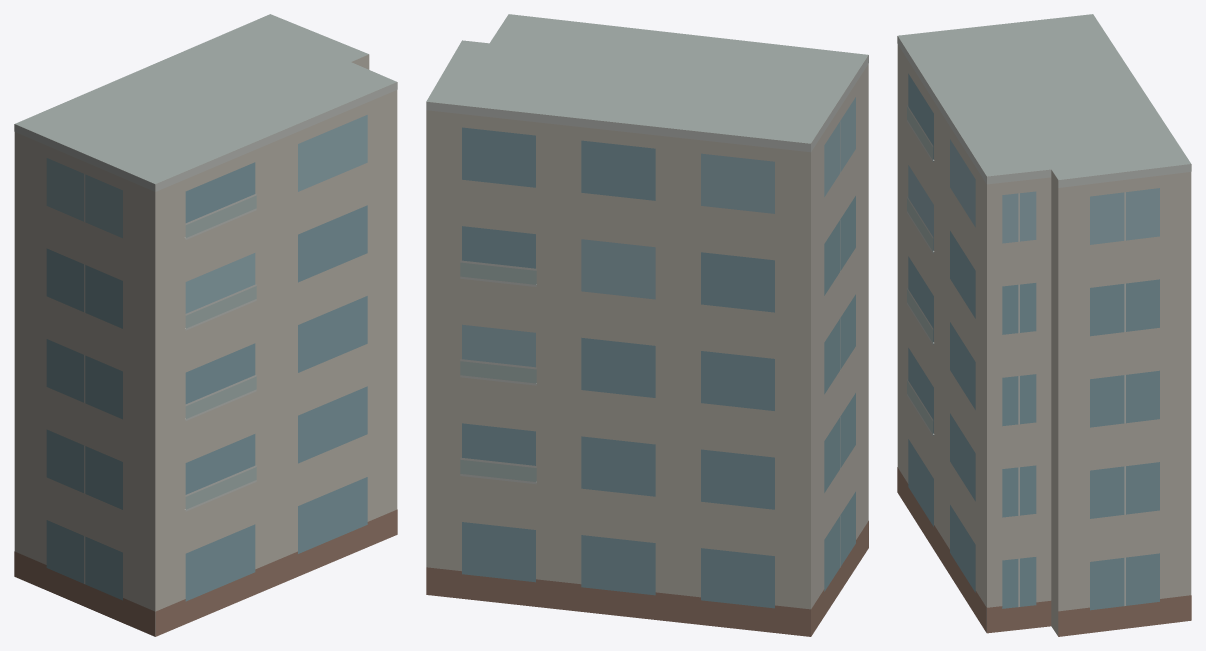
The model's file is survey-upis-32992162.glb.
The picture shows the model from 3 angles, left to right: view 1: azimuth 30°, elevation 25°; view 2: azimuth 150°, elevation 25°; view 3: azimuth 270°, elevation 25°; orthographic projection. The views are drawn at different scales.
Parts seen in each view (by area): view 1: survey-upis-32992162.tmp; view 2: survey-upis-32992162.tmp; view 3: survey-upis-32992162.tmp.
Part boxes in pixels (x1=…): survey-upis-32992162.tmp: x1=14, y1=14, x2=397, y2=636; survey-upis-32992162.tmp: x1=426, y1=14, x2=868, y2=636; survey-upis-32992162.tmp: x1=897, y1=14, x2=1191, y2=636.
Size of the model in its own units: 11.05 by 14.15 by 8.26.
